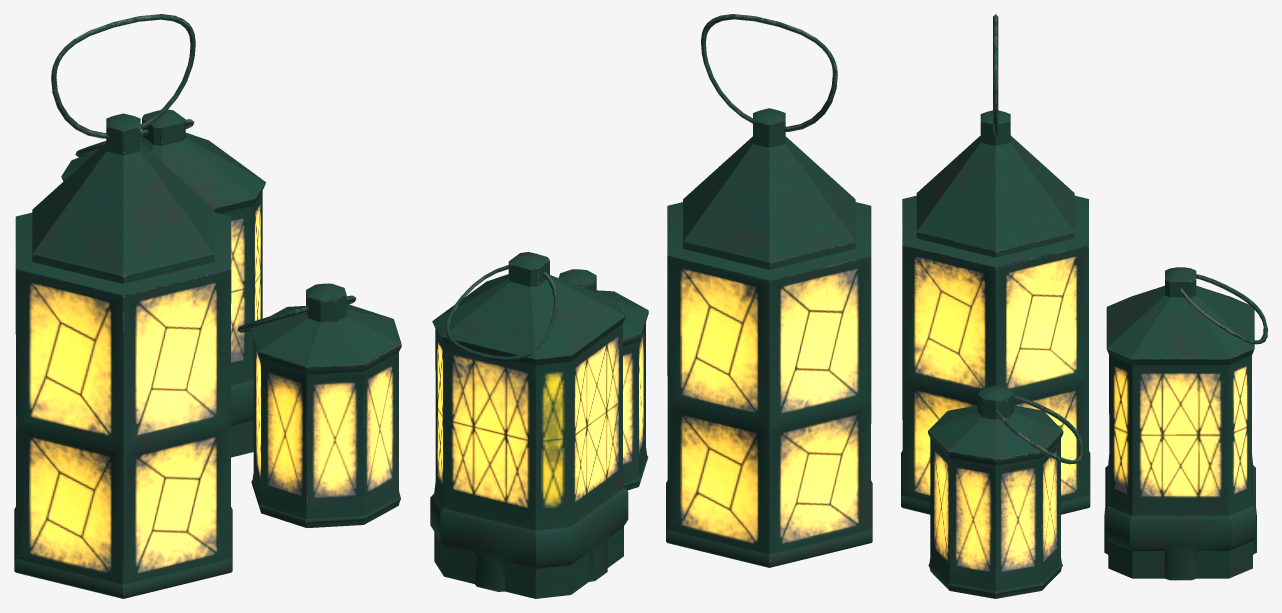
The model's file is lanterns.glb.
The picture shows the model from 3 angles, left to right: view 1: azimuth 30°, elevation 25°; view 2: azimuth 150°, elevation 25°; view 3: azimuth 270°, elevation 25°; orthographic projection. The views are drawn at different scales.
Visible parts, largest first — view 1: LAMP_LOW, LAMP_RUCH_LOW; view 2: LAMP_LOW, LAMP_RUCH_LOW; view 3: LAMP_LOW, LAMP_RUCH_LOW.
Boxes of the visible parts, bbox=[...] form: LAMP_LOW: bbox=[14, 109, 401, 598]; LAMP_RUCH_LOW: bbox=[51, 14, 356, 332]; LAMP_LOW: bbox=[430, 108, 872, 598]; LAMP_RUCH_LOW: bbox=[445, 14, 837, 361]; LAMP_LOW: bbox=[901, 110, 1256, 598]; LAMP_RUCH_LOW: bbox=[993, 14, 1267, 464].
Size of the model in its own units: 53.37 by 70.89 by 51.53.
1 material, 1 textured.
